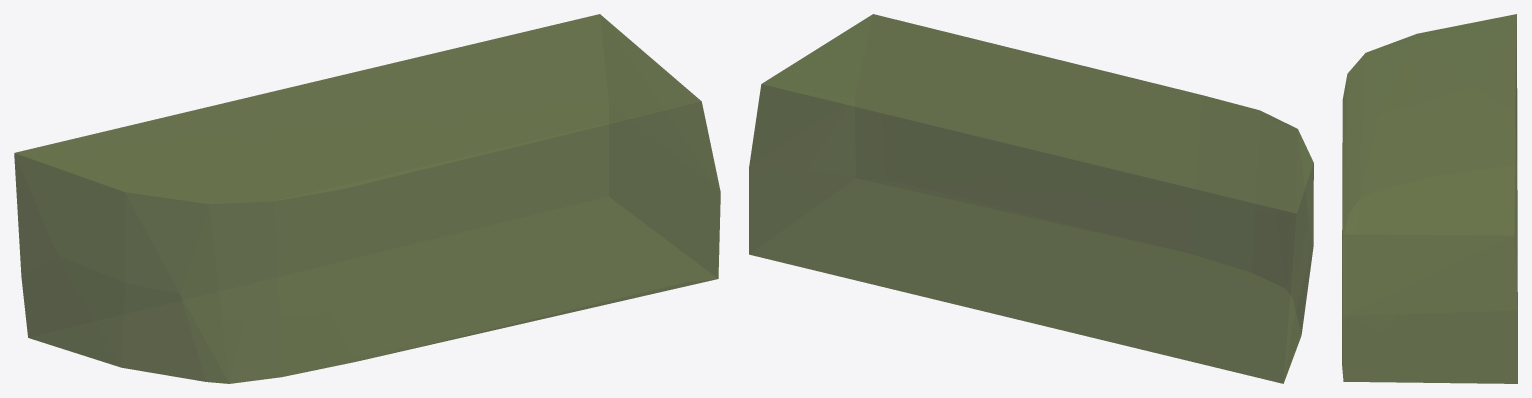
The picture shows the model from 3 angles, left to right: view 1: azimuth 30°, elevation 25°; view 2: azimuth 150°, elevation 25°; view 3: azimuth 270°, elevation 25°; orthographic projection. The views are drawn at different scales.
Visible parts, largest first — view 1: Shape_IndexedFaceSet.020_Shape_IndexedFaceSet.17998; view 2: Shape_IndexedFaceSet.020_Shape_IndexedFaceSet.17998; view 3: Shape_IndexedFaceSet.020_Shape_IndexedFaceSet.17998.
Part boxes in pixels (box(x1,y1,x2,y2)): Shape_IndexedFaceSet.020_Shape_IndexedFaceSet.17998: box(14, 14, 720, 383); Shape_IndexedFaceSet.020_Shape_IndexedFaceSet.17998: box(749, 14, 1313, 383); Shape_IndexedFaceSet.020_Shape_IndexedFaceSet.17998: box(1342, 14, 1517, 383).
Size of the model in its own units: 0.5956 by 0.1809 by 0.1975.
